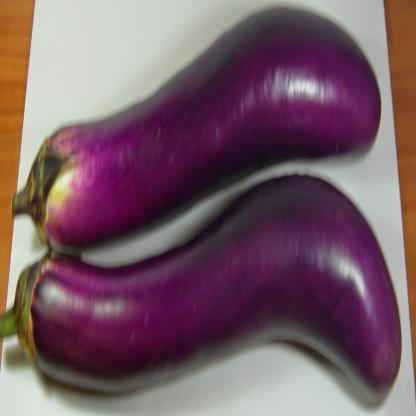eggplant: (0, 172, 402, 404), (13, 4, 381, 252)
